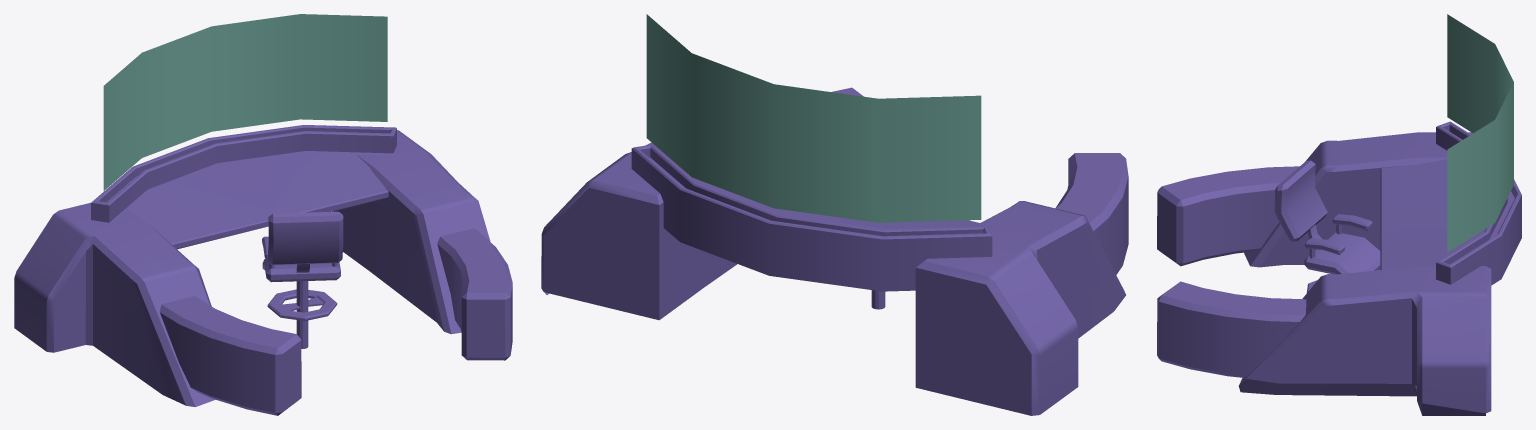
The model's file is P_EscritorioNeftis.fbx.
3 renders of one model, left to right at view 1: azimuth 30°, elevation 25°; view 2: azimuth 150°, elevation 25°; view 3: azimuth 270°, elevation 25°, orthographic. The views are drawn at different scales.
Parts seen in each view (by area): view 1: Mesa, Pantalla, Silla; view 2: Mesa, Pantalla; view 3: Mesa, Pantalla, Silla.
Part boxes in pixels (box(x1,y1,x2,y2)): Mesa: box(14, 125, 512, 415); Pantalla: box(103, 14, 387, 190); Silla: box(262, 211, 343, 348); Mesa: box(541, 87, 1128, 415); Pantalla: box(646, 14, 981, 222); Mesa: box(1157, 121, 1521, 415); Pantalla: box(1447, 14, 1513, 252); Silla: box(1274, 160, 1380, 292).
Size of the model in its own units: 39.25 by 22.58 by 29.92.
